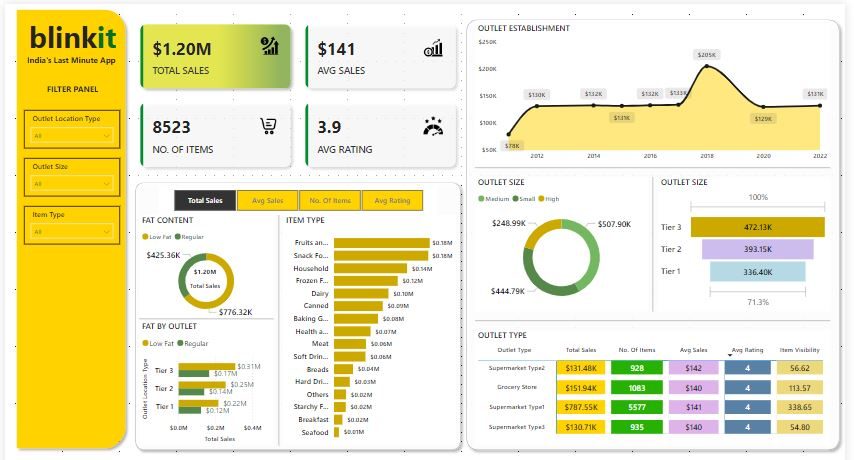

What the dashboard file says about the page in this screenshot:
{"tool":"powerbi","page":{"name":"Page 1","canvas":[1400,800],"ordinal":0},"visuals":[{"type":"shape","box":[10,0,200,750],"z":0},{"type":"textbox","box":[16,16,192,80],"z":1000},{"type":"textbox","box":[32,80,176,32],"z":2000},{"type":"cardVisual","fields":{"Data":["BlinkIT Grocery Data.Total Sales","BlinkIT Grocery Data.Avg Sales","BlinkIT Grocery Data.No. Of Items","BlinkIT Grocery Data.Avg Rating"]},"box":[208,16,560,272],"z":3000},{"type":"shape","box":[208,288,560,464],"z":4000},{"type":"donutChart","title":"FAT CONTENT","fields":{"Y":["BlinkIT Grocery Data.Total Sales"],"Category":["BlinkIT Grocery Data.Item Fat Content"]},"box":[224,352,224,176],"z":5000},{"type":"slicer","fields":{"Values":["Metrics.Metrics"]},"box":[256,304,464,48],"z":6000},{"type":"card","fields":{"Values":["BlinkIT Grocery Data.Total Sales"]},"box":[293,432,80,48],"z":7000},{"type":"clusteredBarChart","title":"FAT BY OUTLET","fields":{"Y":["BlinkIT Grocery Data.Total Sales"],"Category":["BlinkIT Grocery Data.Outlet Location Type"],"Series":["BlinkIT Grocery Data.Item Fat Content"]},"box":[224,528,224,208],"z":8000},{"type":"shape","box":[832,432,224,16],"z":9000},{"type":"shape","box":[448,352,16,384],"z":10000},{"type":"barChart","title":"ITEM TYPE","fields":{"Y":["BlinkIT Grocery Data.Total Sales"],"Category":["BlinkIT Grocery Data.Item Type"]},"box":[464,352,288,384],"z":11000},{"type":"shape","box":[760,16,640,736],"z":12000},{"type":"lineChart","title":"OUTLET ESTABLISHMENT","fields":{"Category":["BlinkIT Grocery Data.Outlet Establishment Year"],"Y":["BlinkIT Grocery Data.Total Sales"]},"box":[784,32,592,240],"z":13000},{"type":"shape","box":[784,256,592,32],"z":14000},{"type":"shape","box":[224,517,224,16],"z":15000},{"type":"donutChart","title":"OUTLET SIZE","fields":{"Category":["BlinkIT Grocery Data.Outlet Size"],"Y":["BlinkIT Grocery Data.Total Sales"]},"box":[784,288,288,224],"z":16000},{"type":"shape","box":[1072,288,16,224],"z":17000},{"type":"funnel","title":"OUTLET SIZE","fields":{"Y":["Sum(BlinkIT Grocery Data.Sales)"],"Category":["BlinkIT Grocery Data.Outlet Location Type"]},"box":[1088,288,288,224],"z":18000},{"type":"pivotTable","title":"OUTLET TYPE","fields":{"Rows":["BlinkIT Grocery Data.Outlet Type"],"Values":["BlinkIT Grocery Data.Total Sales","BlinkIT Grocery Data.No. Of Items","BlinkIT Grocery Data.Avg Sales","BlinkIT Grocery Data.Avg Rating","Sum(BlinkIT Grocery Data.Item Visibility)"]},"box":[784,544,592,192],"z":20000},{"type":"shape","box":[784,512,592,32],"z":20001},{"type":"slicer","fields":{"Values":["BlinkIT Grocery Data.Outlet Location Type"]},"box":[32,176,160,64],"z":20002},{"type":"slicer","fields":{"Values":["BlinkIT Grocery Data.Outlet Size"]},"box":[32,256,160,64],"z":20003},{"type":"slicer","fields":{"Values":["BlinkIT Grocery Data.Item Type"]},"box":[32,336,160,64],"z":20004},{"type":"textbox","box":[48,128,128,32],"z":20005}]}

Visuals, with their boxes on the page's 1400x800 design canvas (x1, y1, x2, y2). These are canvas units, not pixel positions in the 854x460 screenshot, which may show the page scaled, cropped or inside an application window:
shape: crop(10, 0, 210, 750)
textbox: crop(16, 16, 208, 96)
textbox: crop(32, 80, 208, 112)
cardVisual - BlinkIT Grocery Data.Total Sales x BlinkIT Grocery Data.Avg Sales: crop(208, 16, 768, 288)
shape: crop(208, 288, 768, 752)
"FAT CONTENT" donutChart: crop(224, 352, 448, 528)
slicer - Metrics.Metrics: crop(256, 304, 720, 352)
card - BlinkIT Grocery Data.Total Sales: crop(293, 432, 373, 480)
"FAT BY OUTLET" clusteredBarChart: crop(224, 528, 448, 736)
shape: crop(832, 432, 1056, 448)
shape: crop(448, 352, 464, 736)
"ITEM TYPE" barChart: crop(464, 352, 752, 736)
shape: crop(760, 16, 1400, 752)
"OUTLET ESTABLISHMENT" lineChart: crop(784, 32, 1376, 272)
shape: crop(784, 256, 1376, 288)
shape: crop(224, 517, 448, 533)
"OUTLET SIZE" donutChart: crop(784, 288, 1072, 512)
shape: crop(1072, 288, 1088, 512)
"OUTLET SIZE" funnel: crop(1088, 288, 1376, 512)
"OUTLET TYPE" pivotTable: crop(784, 544, 1376, 736)
shape: crop(784, 512, 1376, 544)
slicer - BlinkIT Grocery Data.Outlet Location Type: crop(32, 176, 192, 240)
slicer - BlinkIT Grocery Data.Outlet Size: crop(32, 256, 192, 320)
slicer - BlinkIT Grocery Data.Item Type: crop(32, 336, 192, 400)
textbox: crop(48, 128, 176, 160)
